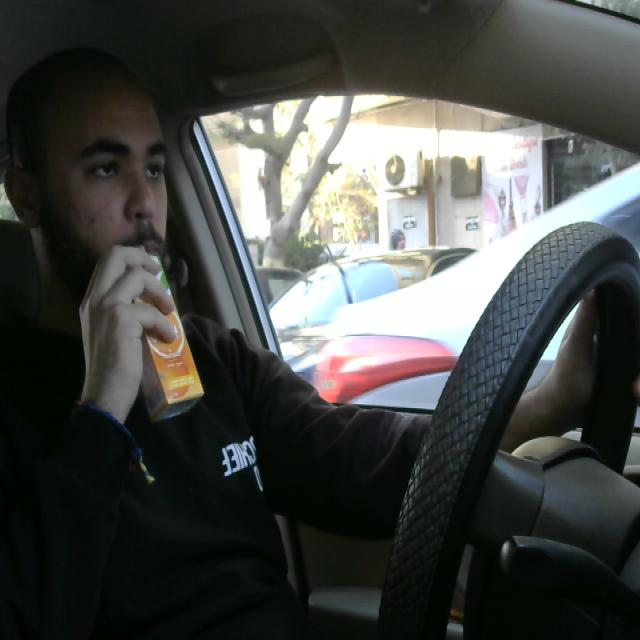drinking: (116, 230, 206, 426)
